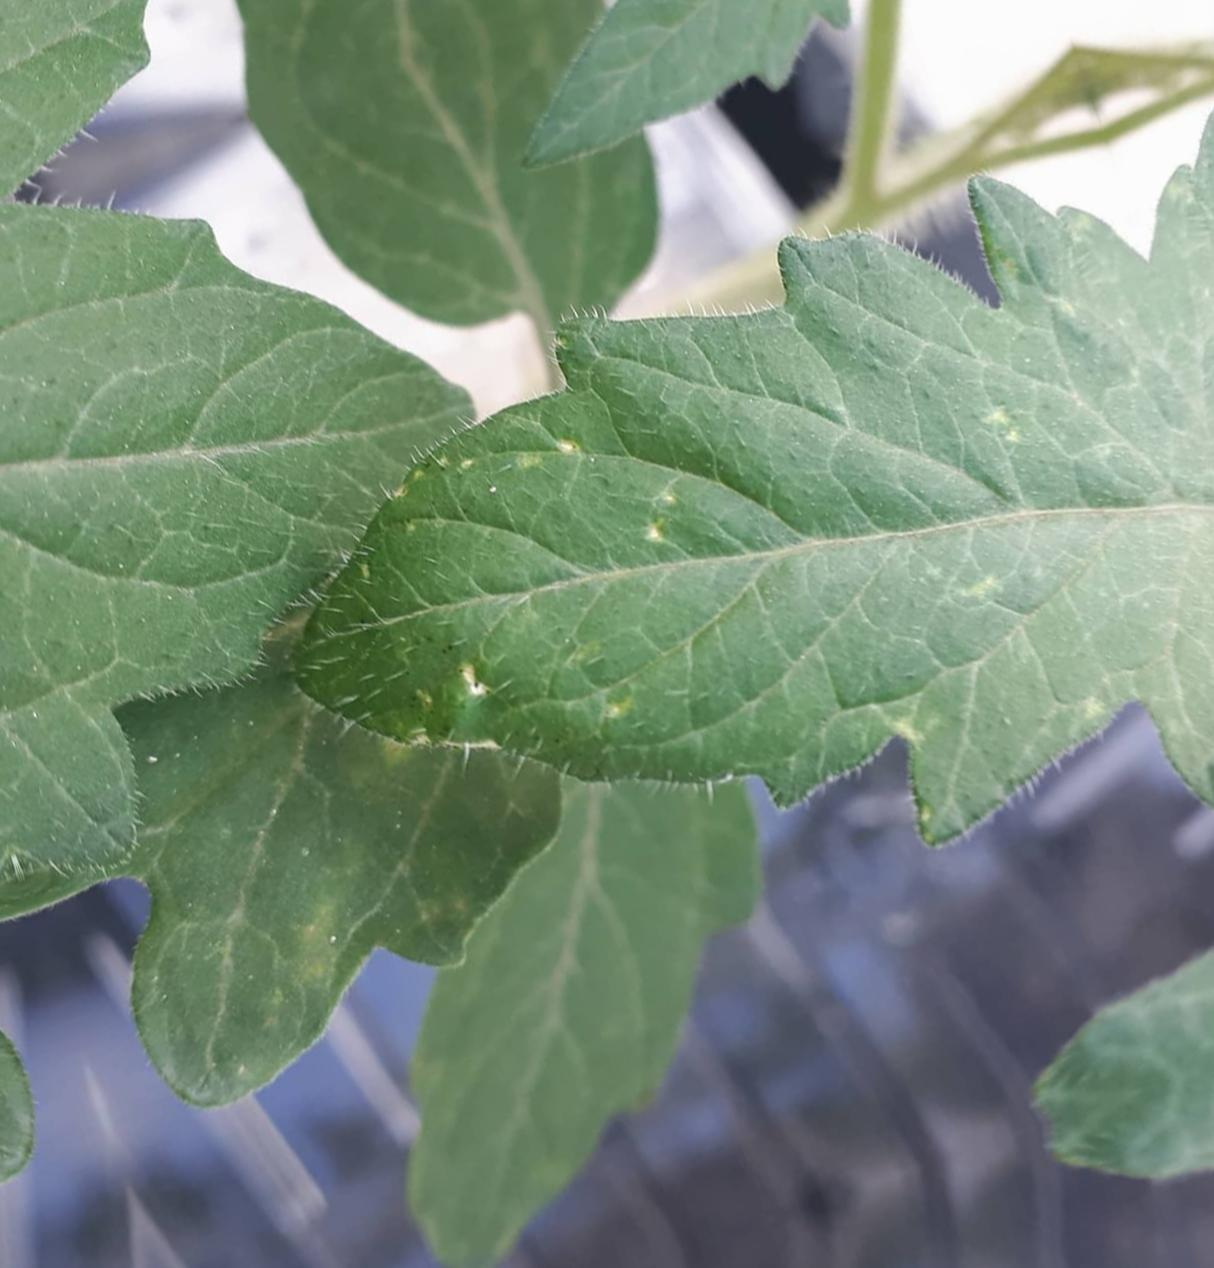Tomato mold leaf: (183, 109, 1214, 1016), (0, 66, 609, 893)
